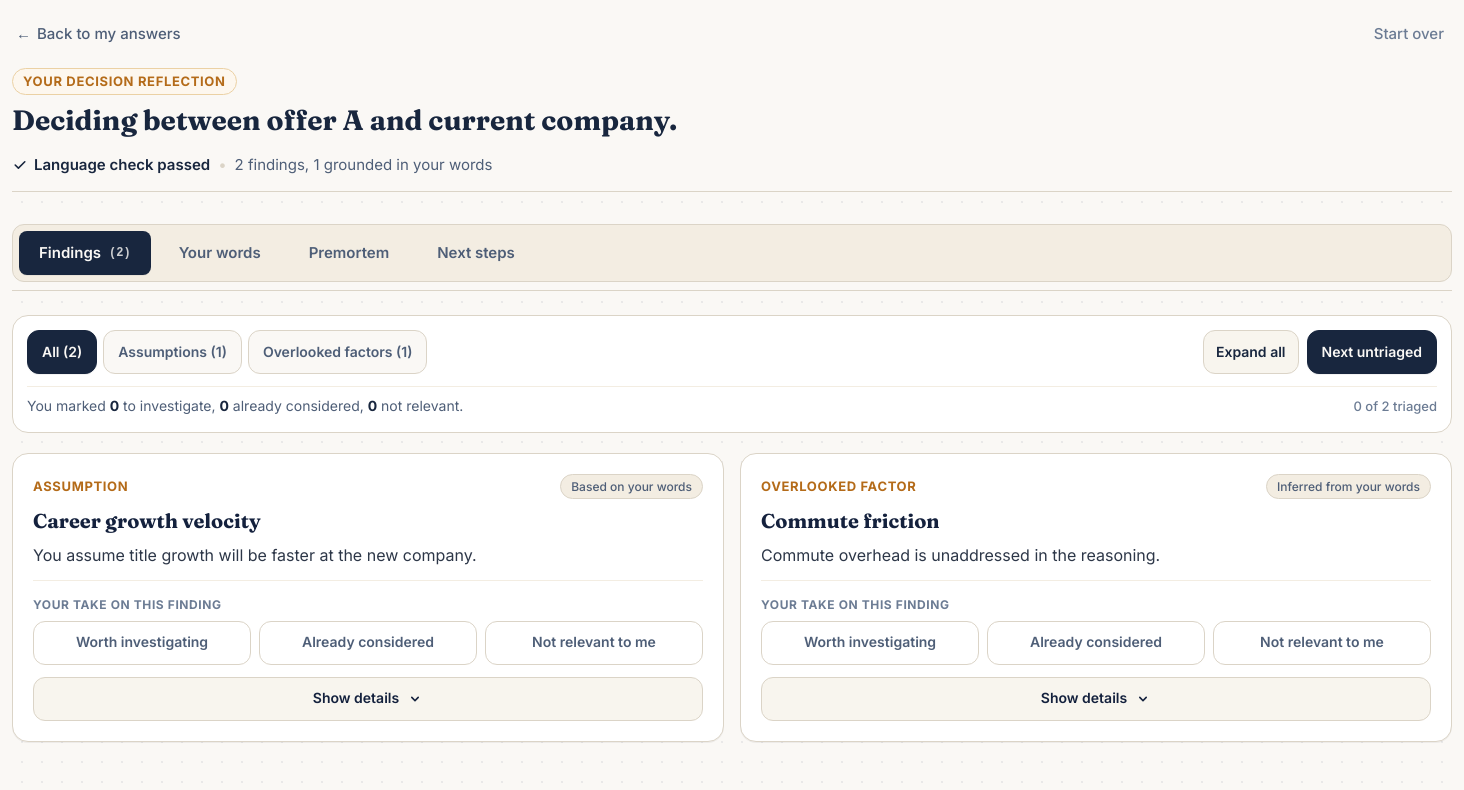
Test: Phase 9: Results Redesign & Reliability Integration › Compact FindingCard & Expandable Details › toggles card details with expand button and aria-expanded
The width and height of the screenshot is (1464, 790).
Note: Click to expand
Step 1. Click the button "Show details" below "Career growth velocity" → (368, 699), box [33, 677, 703, 721]
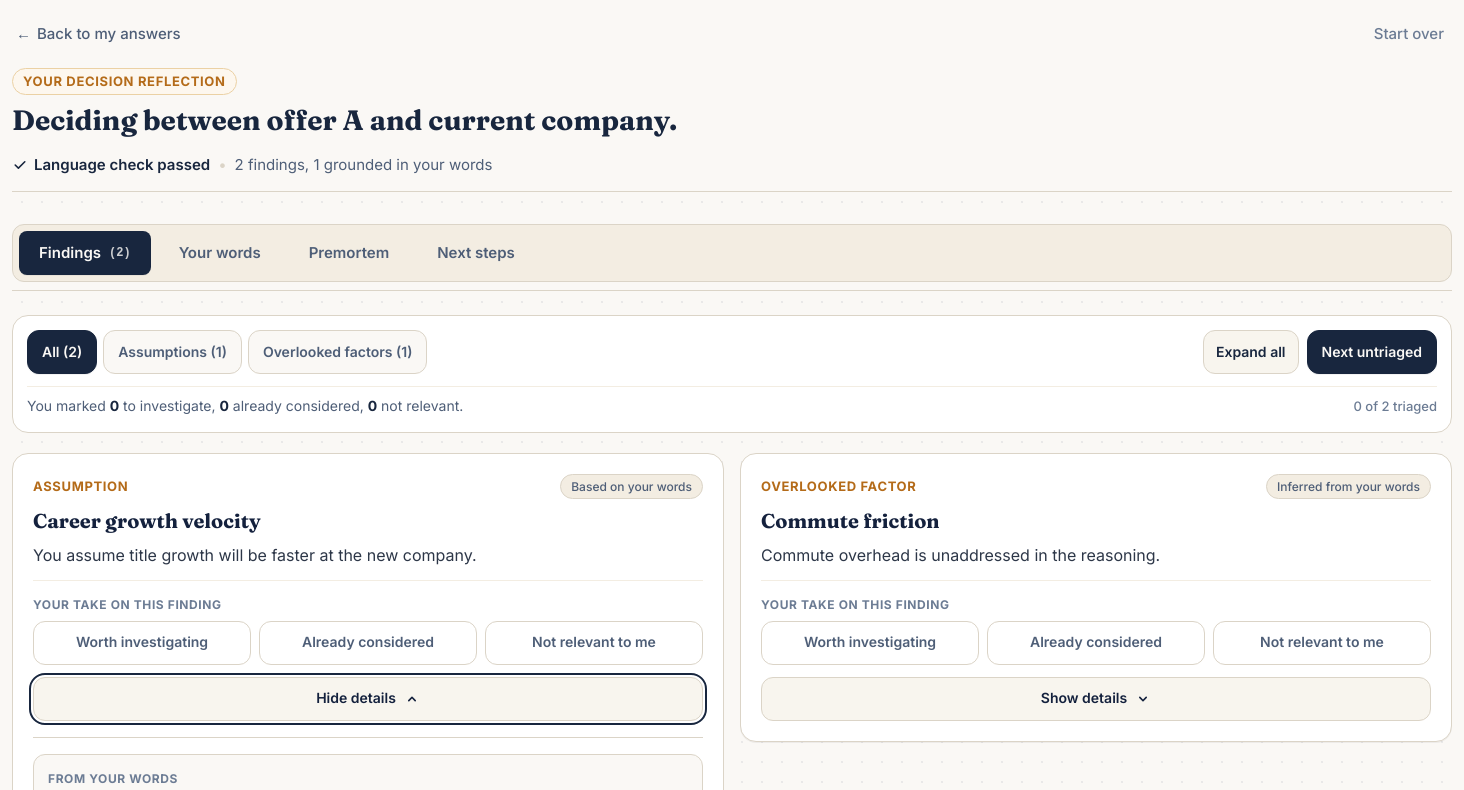
Expected: the button "Hide details" is expanded
Note: Click to collapse
Step 2. Click the button "Hide details" → (368, 699), box [33, 677, 703, 721]
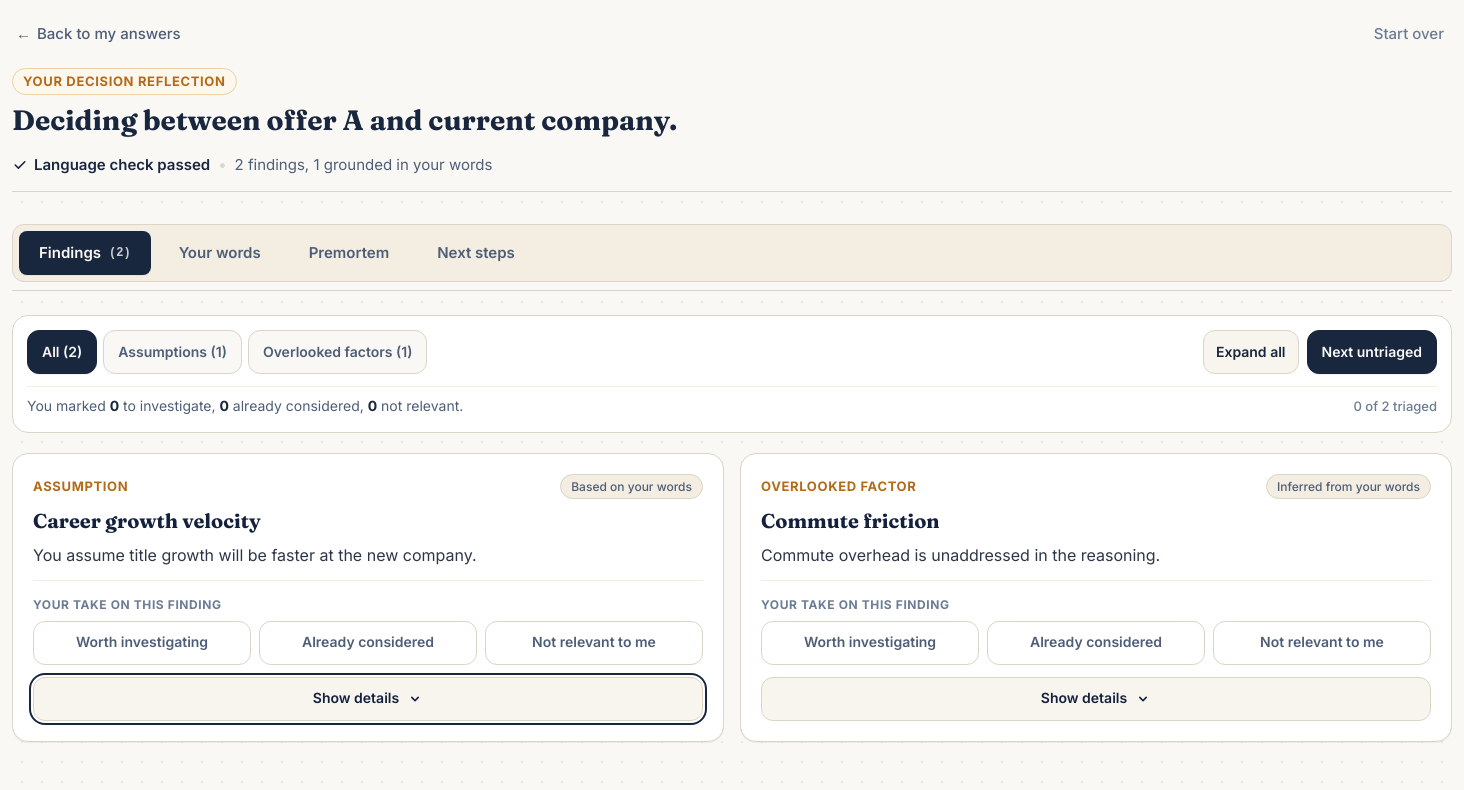
Expected: the button "Show details" below "Career growth velocity" is collapsed, [33, 677, 703, 721]
